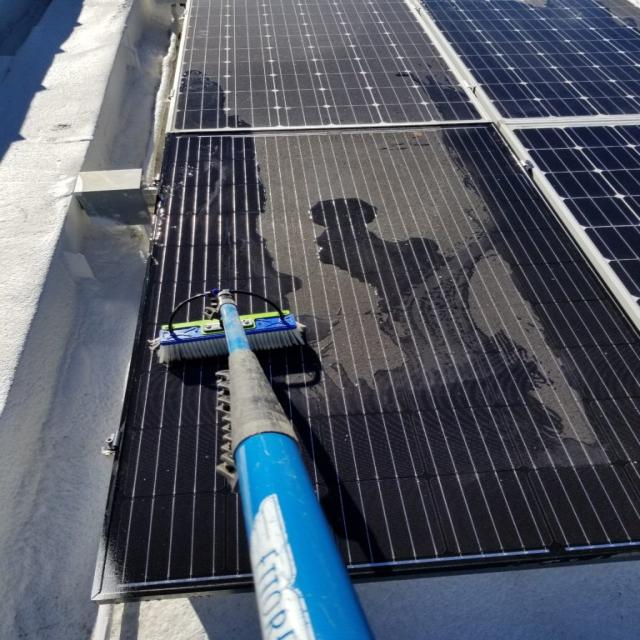dust-solar-panel: (256, 124, 559, 388), (162, 0, 477, 131)
